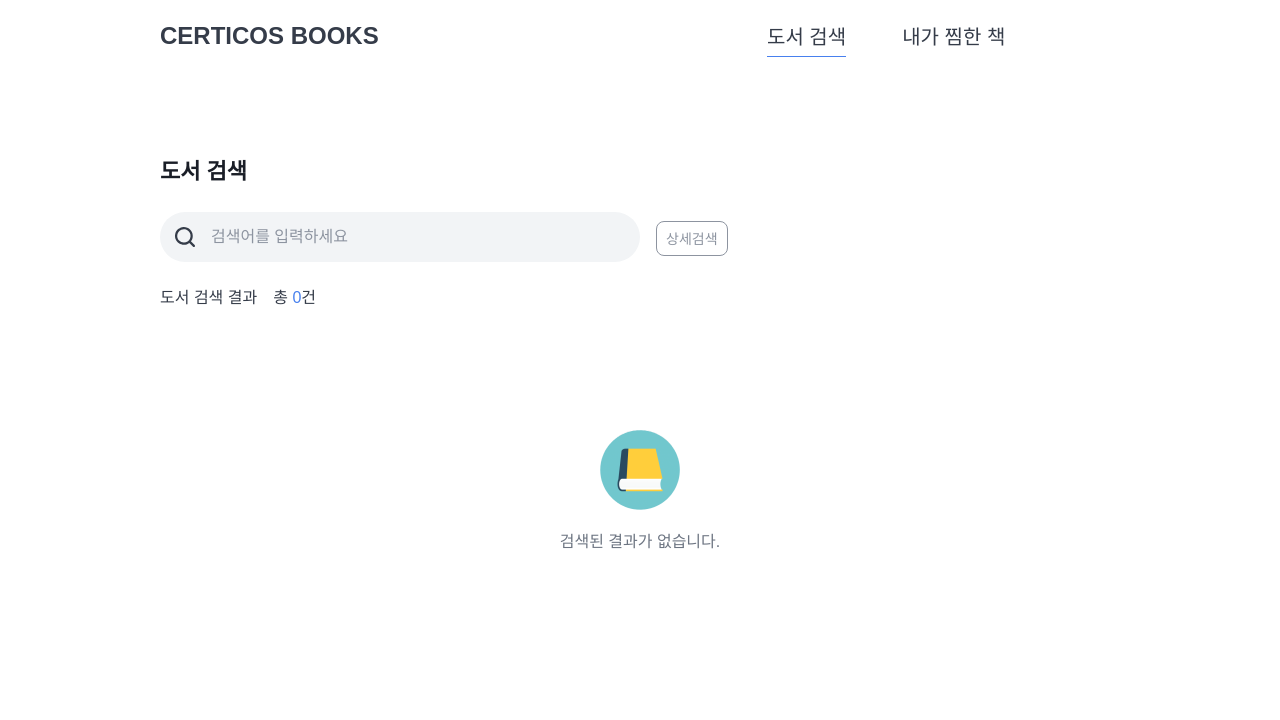
Test: 상세 검색 › 상세 조건을 입력만 하고 닫은 뒤 전체 검색을 하면 상세 조건을 초기화한다
The width and height of the screenshot is (1280, 720).
Click the button "상세검색" at (692, 238), box [656, 221, 728, 256]
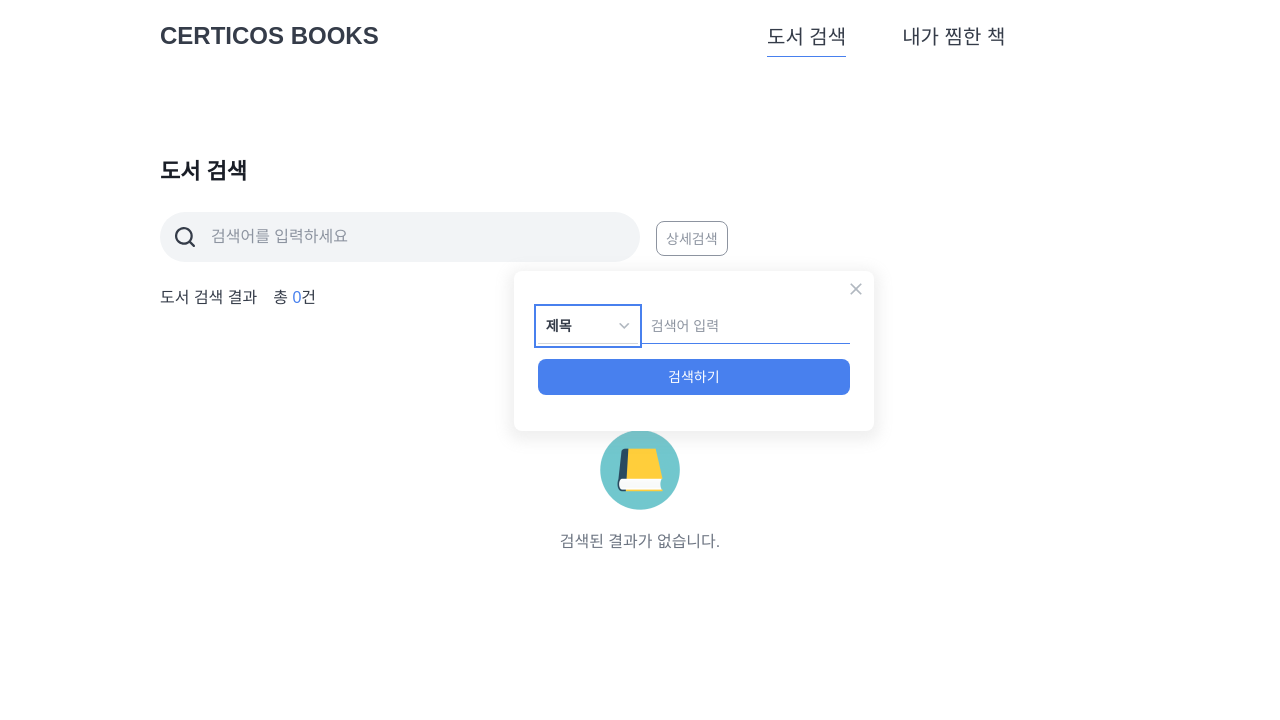
Click the dropdown named "검색 조건" at (588, 326), box [538, 308, 638, 344]
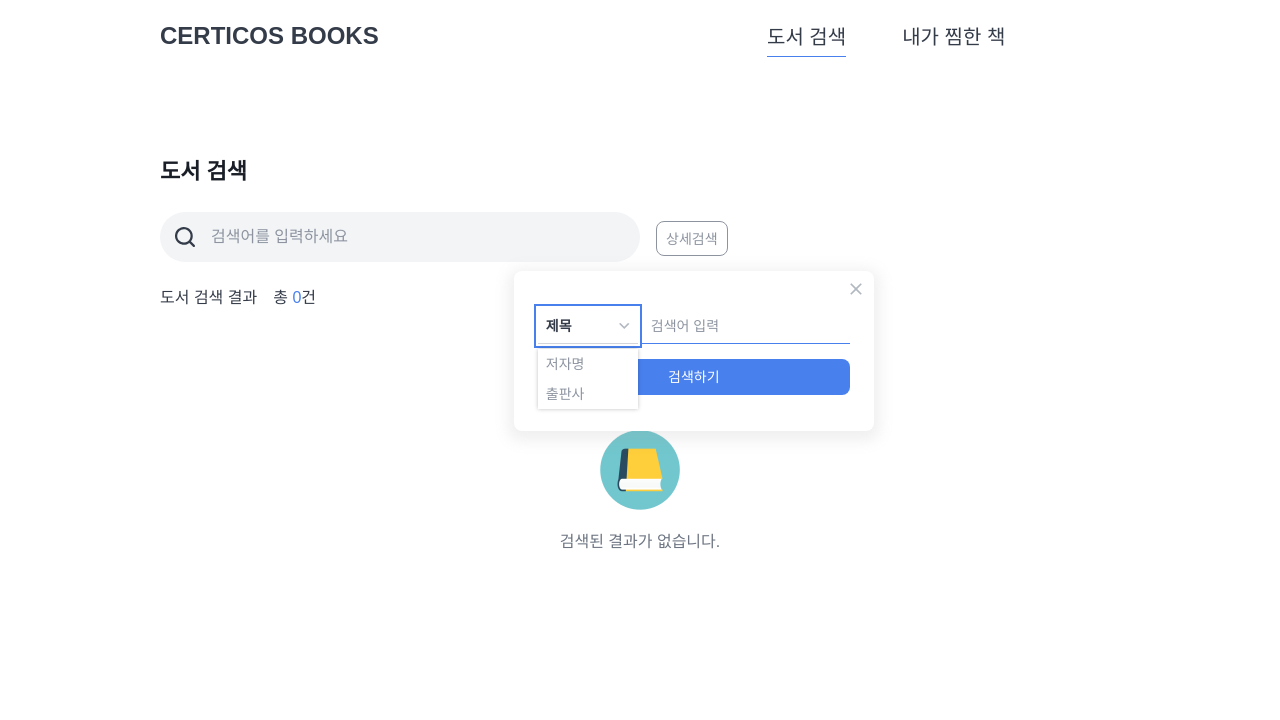
Click the option "저자명" at (565, 364), box [546, 356, 584, 372]
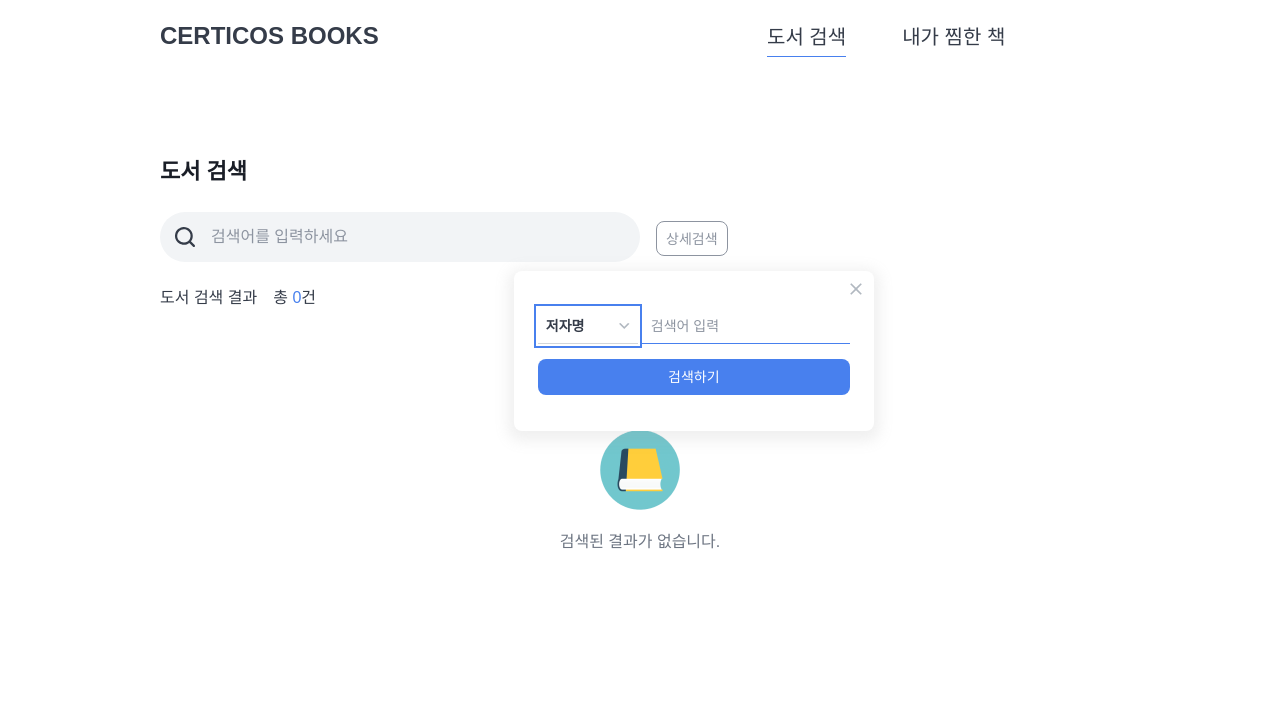
Type "하루키" into the field named "상세 검색어" at (746, 326), box [642, 308, 850, 344]
Press Escape
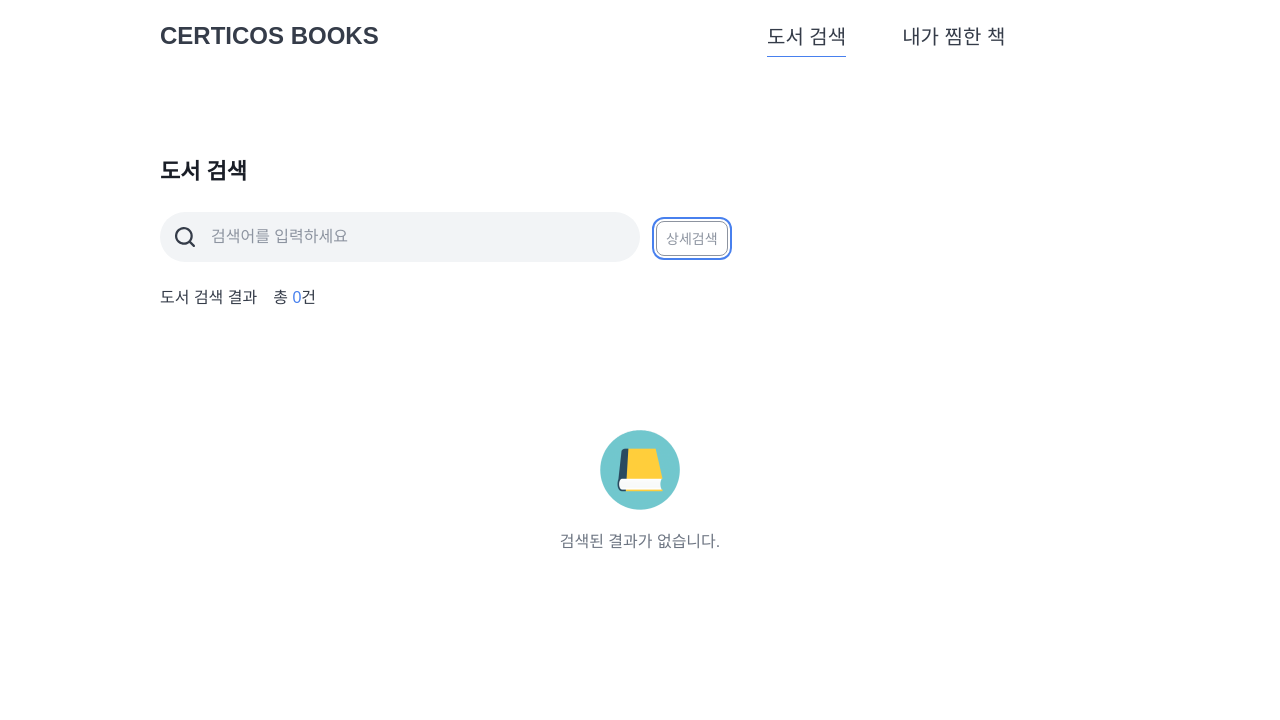
Type "숲" into the dropdown labelled "검색어" at (426, 237), box [211, 212, 640, 262]
Then press Enter
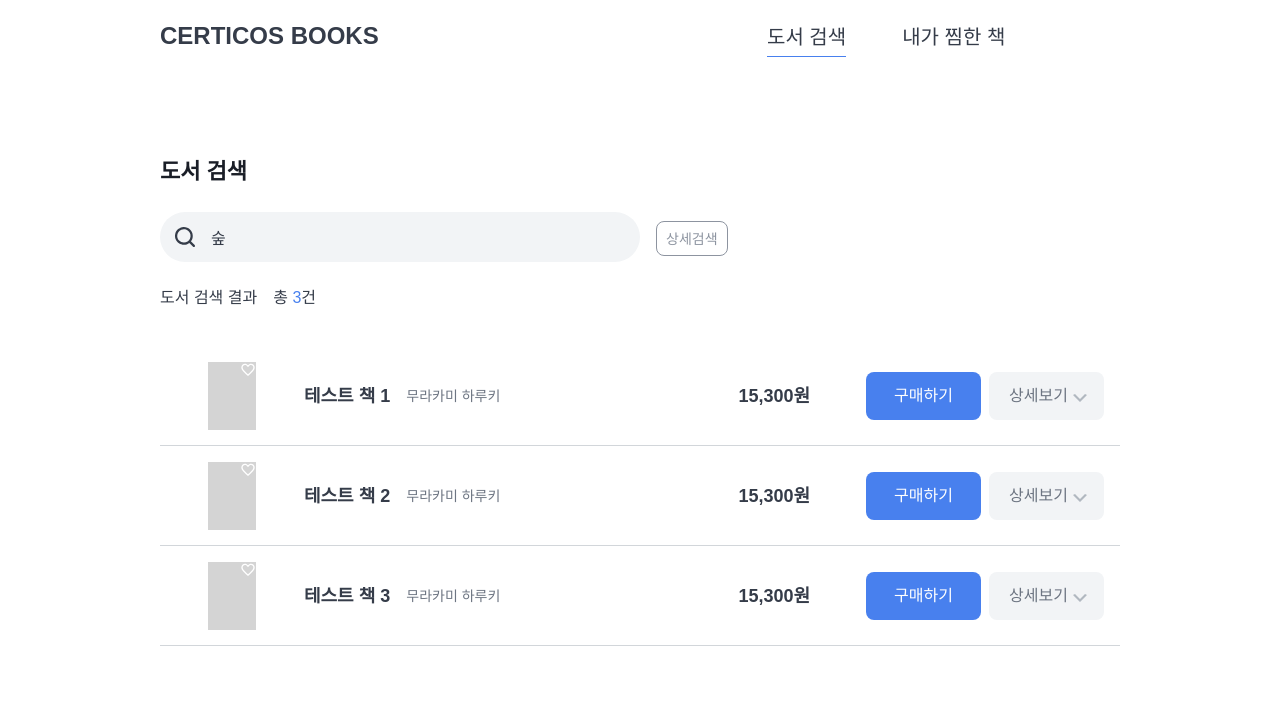
Click the button "상세검색" at (692, 238), box [656, 221, 728, 256]
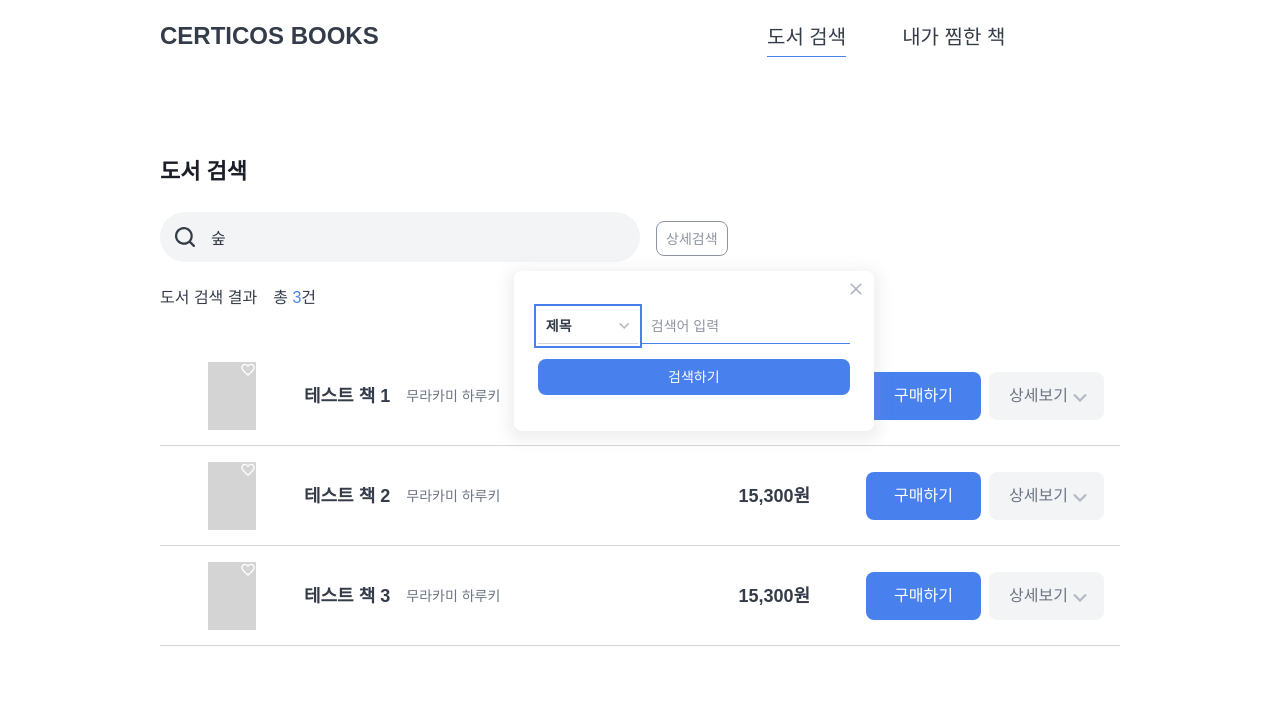
Expected: the dropdown named "검색 조건" reads "제목", [538, 308, 638, 344]
Expected: the field named "상세 검색어" is empty, [642, 308, 850, 344]
